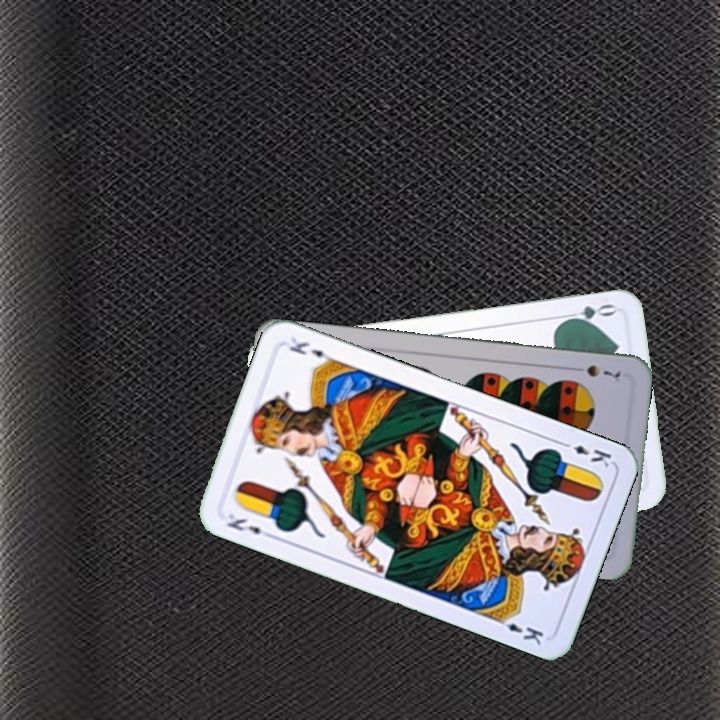EK: (556, 437, 614, 470), (223, 510, 276, 541)
GO: (558, 299, 617, 326)
S7: (567, 361, 623, 380)
